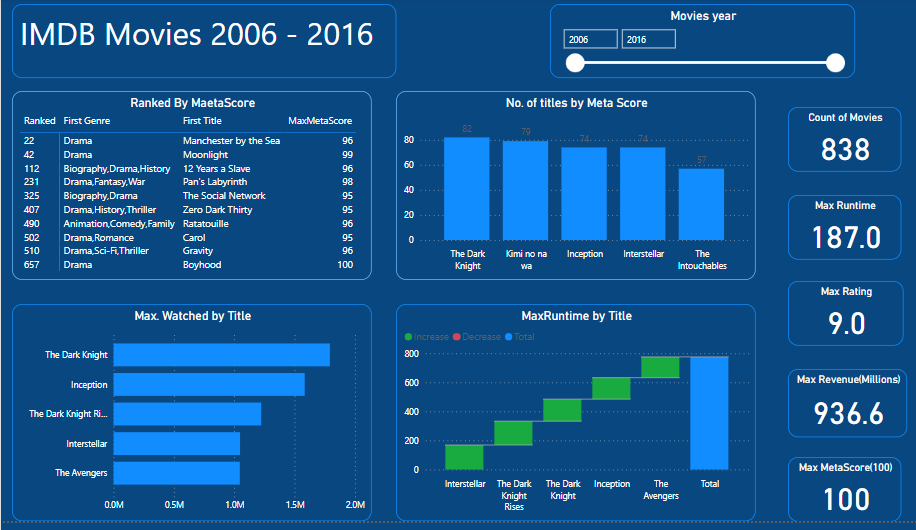

Layout of this report page (visuals, bound fields, positions):
{"tool":"powerbi","page":{"name":"Page 1","canvas":[1280,720],"ordinal":0},"visuals":[{"type":"card","title":"Count of Movies","fields":{"Values":["Movies.TotalMovies"]},"box":[434.9,26.2,129.4,85.3],"z":0},{"type":"card","title":"Max Runtime","fields":{"Values":["Movies.MaxRuntime"]},"box":[594.6,26.2,123.9,85.3],"z":1000},{"type":"card","title":"Max Rating","fields":{"Values":["Movies.MaxRating"]},"box":[746,26.2,111.5,85.3],"z":2000},{"type":"card","title":"Max Revenue(Millions)","fields":{"Values":["Movies.MaxRevenue"]},"box":[882.2,26.2,167.9,85.3],"z":3000},{"type":"card","title":"Max MetaScore(100)","fields":{"Values":["Movies.MaxMetaScore"]},"box":[1083.2,26.2,155.5,85.3],"z":4000},{"type":"pivotTable","title":"Ranked By MaetaScore","fields":{"Rows":["Movies.Ranked"],"Values":["Min(Movies.Genre)","Min(Movies.Title)","Movies.MaxMetaScore"]},"box":[15.1,128,495.5,260.1],"z":5000},{"type":"clusteredColumnChart","title":"No. of titles by Meta Score ","fields":{"Category":["Movies.Title"],"Y":["Sum(Movies.Metascore)"]},"box":[543.7,128,495.5,260.1],"z":6000},{"type":"clusteredBarChart","fields":{"Category":["Movies.Title"],"Y":["Sum(Movies.Rating)"]},"box":[15.1,421.2,495.5,298.7],"z":7000},{"type":"areaChart","fields":{"Category":["Movies.Title"],"Y":["Movies.MaxRuntime"]},"box":[543.7,421.2,495.5,298.7],"z":9000},{"type":"textbox","box":[15.1,26.2,386.8,85.3],"z":10000},{"type":"slicer","title":"Year","fields":{"Values":["Movies.Year"]},"box":[1083.2,156.9,155.5,414.3],"z":10001}]}

Visuals, with their boxes in screenshot pixels (x1, y1, x2, y2), scaled from the page's 1280x720 canvas onto the 916x530 screenshot:
"Count of Movies" card: [311, 19, 404, 82]
"Max Runtime" card: [426, 19, 514, 82]
"Max Rating" card: [534, 19, 614, 82]
"Max Revenue(Millions)" card: [631, 19, 751, 82]
"Max MetaScore(100)" card: [775, 19, 886, 82]
"Ranked By MaetaScore" pivotTable: [11, 94, 365, 286]
"No. of titles by Meta Score " clusteredColumnChart: [389, 94, 744, 286]
clusteredBarChart - Movies.Title x Sum(Movies.Rating): [11, 310, 365, 529]
areaChart - Movies.Title x Movies.MaxRuntime: [389, 310, 744, 529]
textbox: [11, 19, 288, 82]
"Year" slicer: [775, 115, 886, 420]
